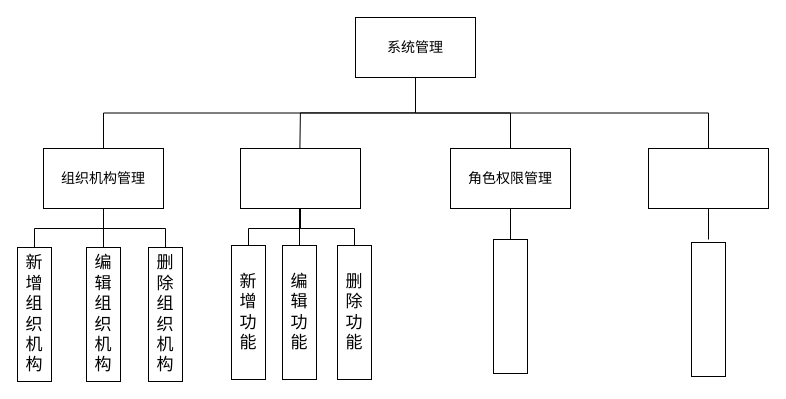
Some shapes in this 786 by 399 pixel diagram are drawn without their labels. Each missing label, with the centre of its shape:
"上传日志" goes at [708,309].
"功能模块管理" goes at [300,178].
"操作日志管理" goes at [708,178].
"编辑角色权限" goes at [510,306].
